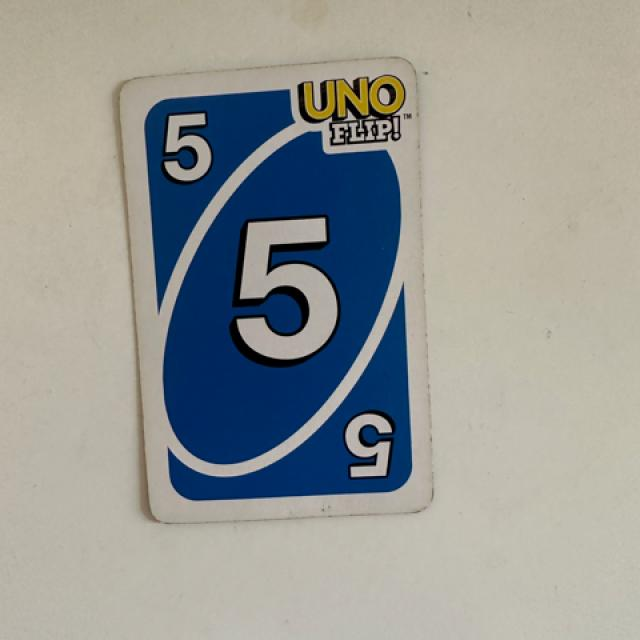lblue-5: (137, 89, 235, 208)
